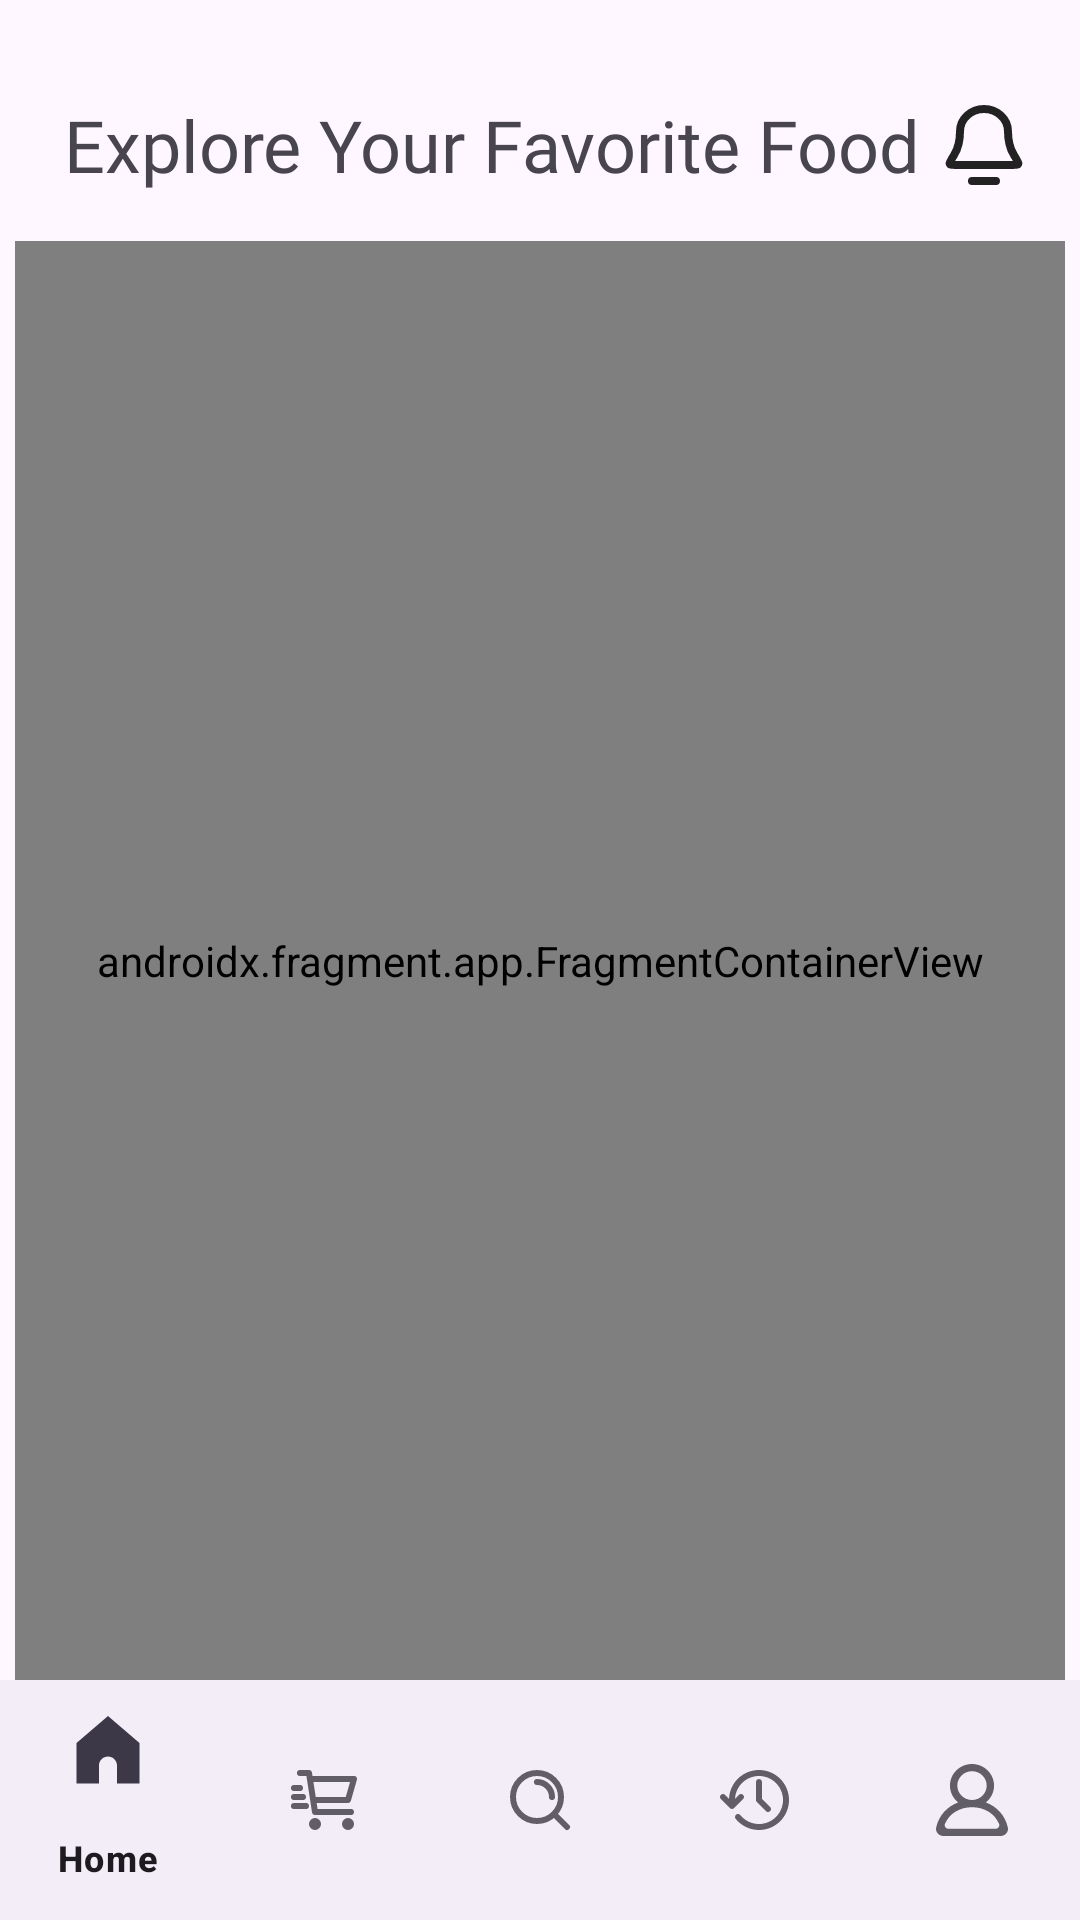

Icons on this 1080x1920 Android screen, each with its box as box=[x1, y1, x2, y2]:
bell: box=[945, 105, 1023, 185]
